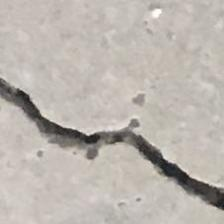Crack: (0, 66, 224, 215)
